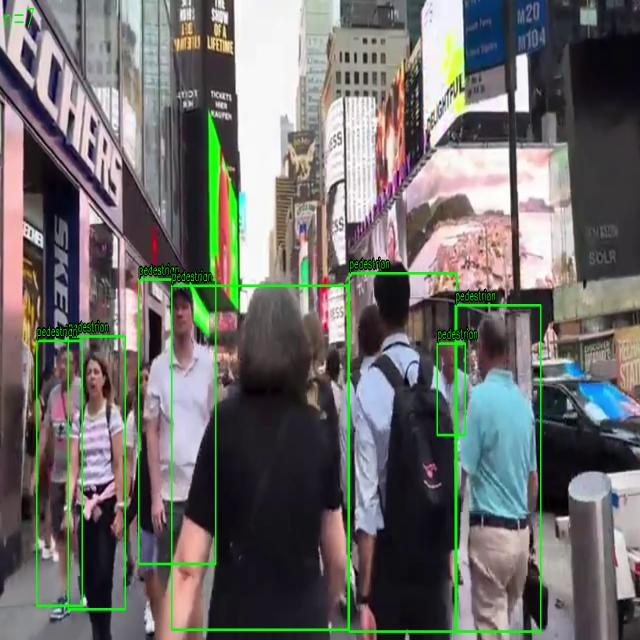with scooter: (172, 286, 348, 630), (349, 273, 457, 632), (455, 305, 541, 632), (138, 279, 216, 565), (68, 336, 126, 610), (36, 340, 82, 606), (437, 343, 465, 436)
